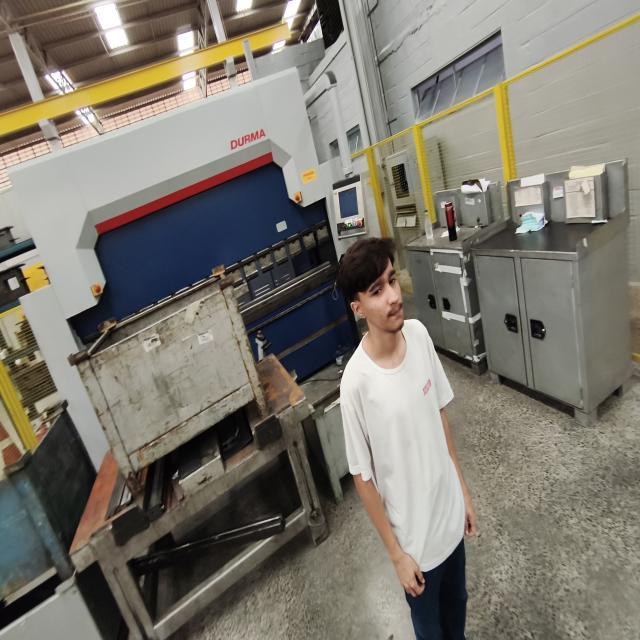sem_oculos: (339, 268, 410, 306)
